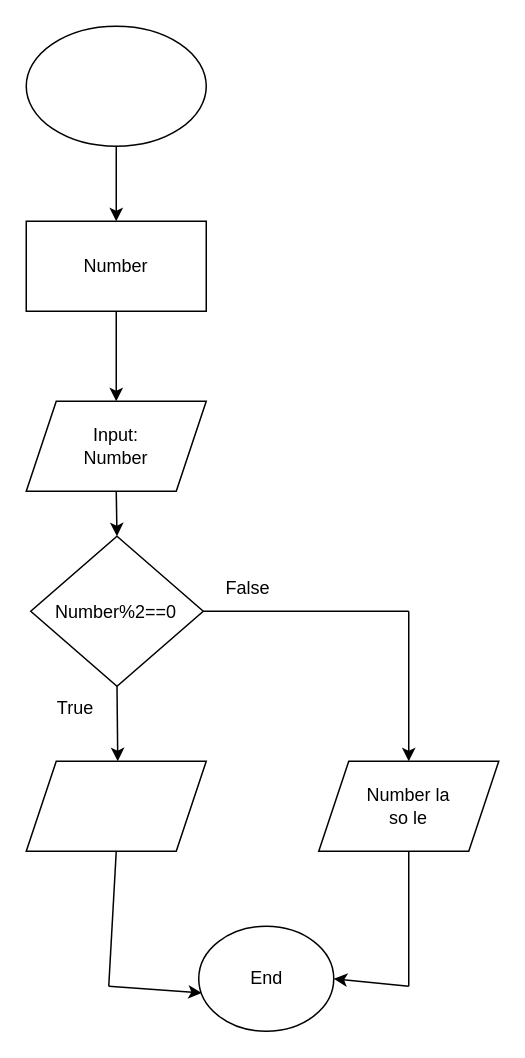
The diagram is 525 pixels wide and 1058 high, and some of its shapes have lost their labels. The centre of each missing label's shape, as x and y in pixels:
Number la so chan: [115,805]
Start: [115,85]
